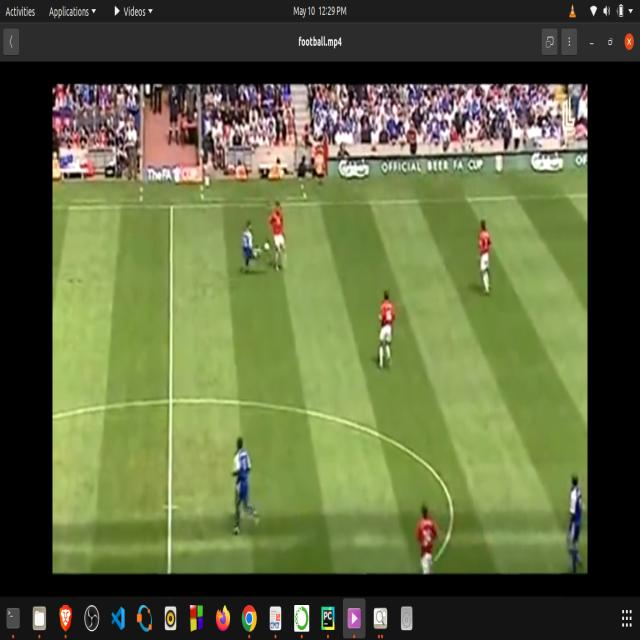Ball: (263, 239, 270, 255)
football-players: (231, 432, 264, 548), (375, 281, 399, 373), (565, 468, 585, 574), (414, 500, 440, 573), (270, 194, 290, 274), (478, 215, 497, 296), (242, 211, 262, 279)
